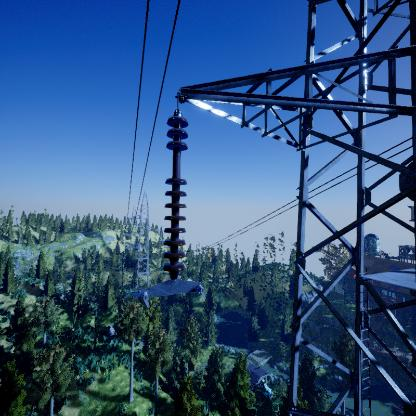insulator: (161, 113, 191, 277)
